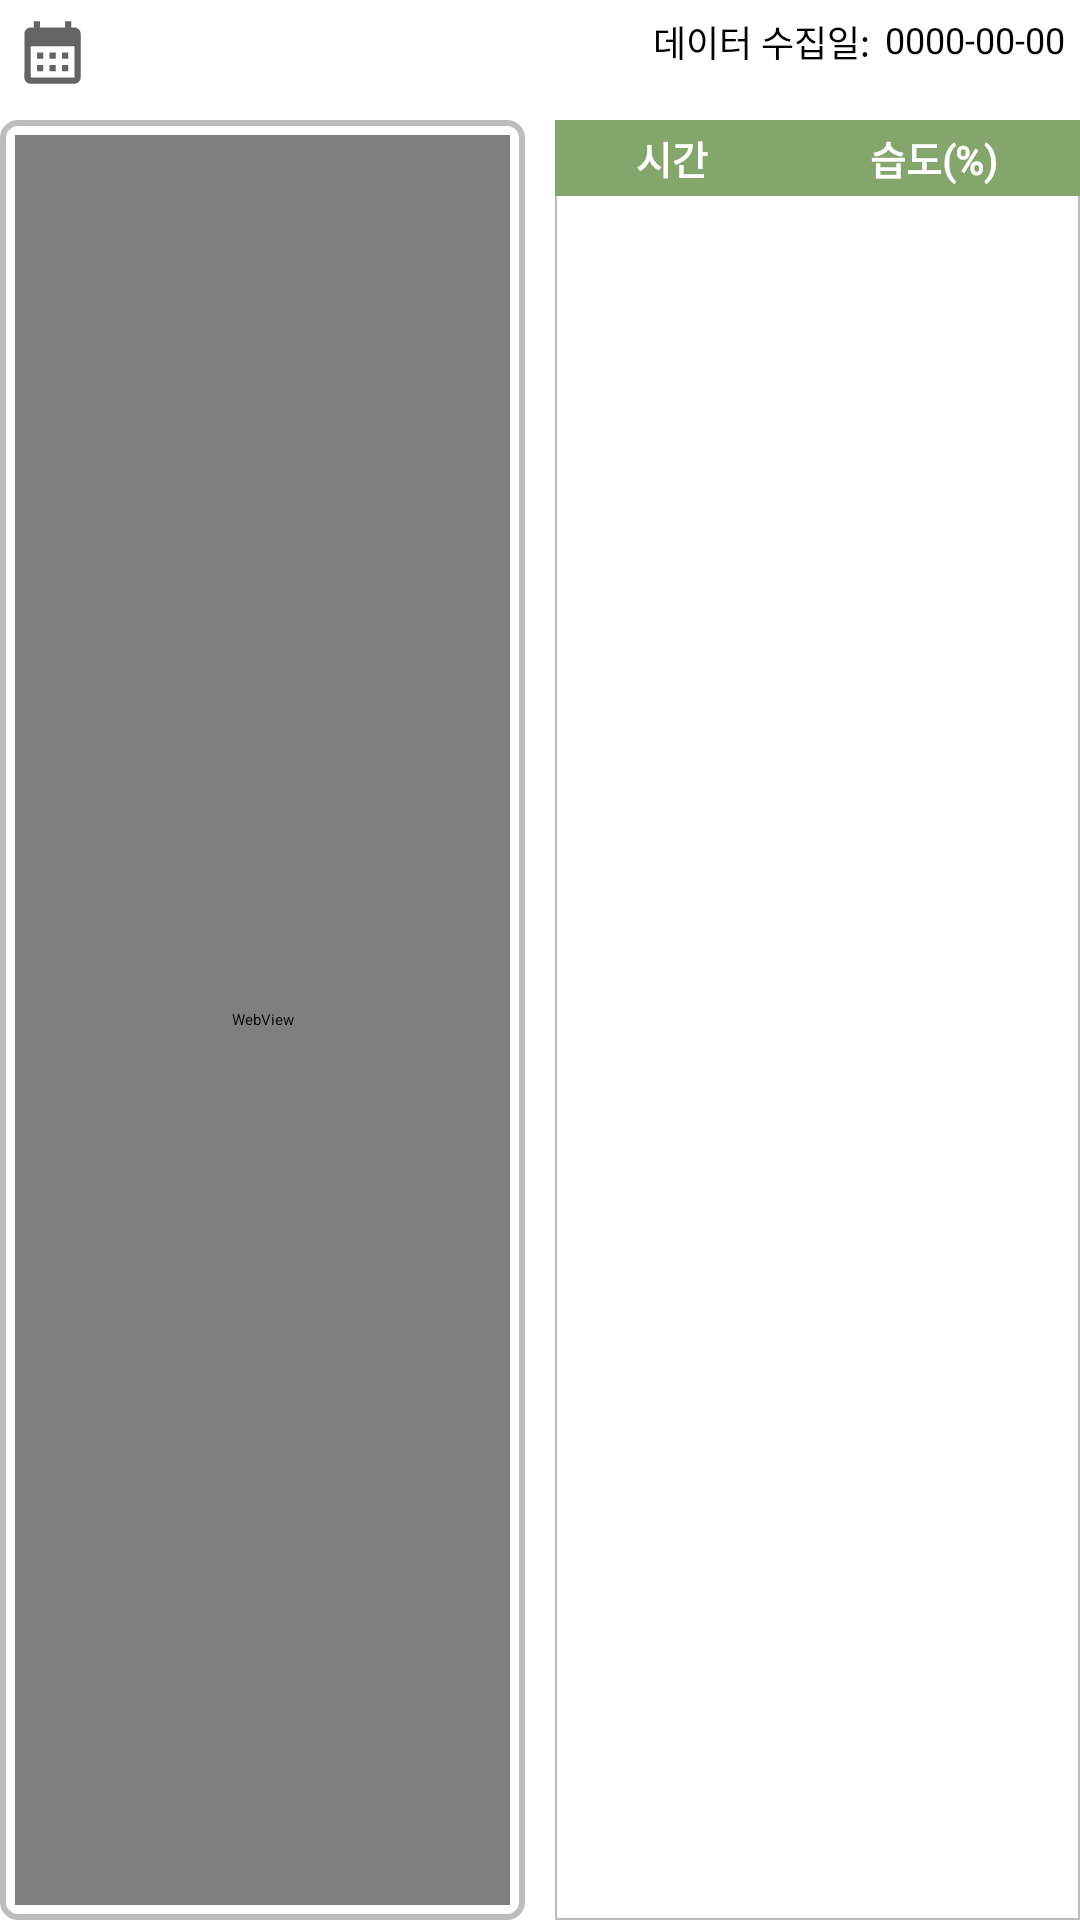

Named icons in this screenshot (1080×1920) and their centers, point (x, y):
work data calendar: point (52, 52)
